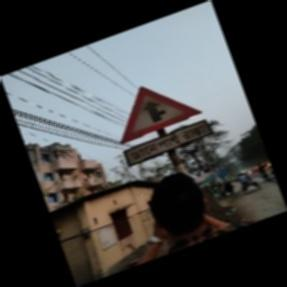Side-road-right: (119, 80, 221, 169)
